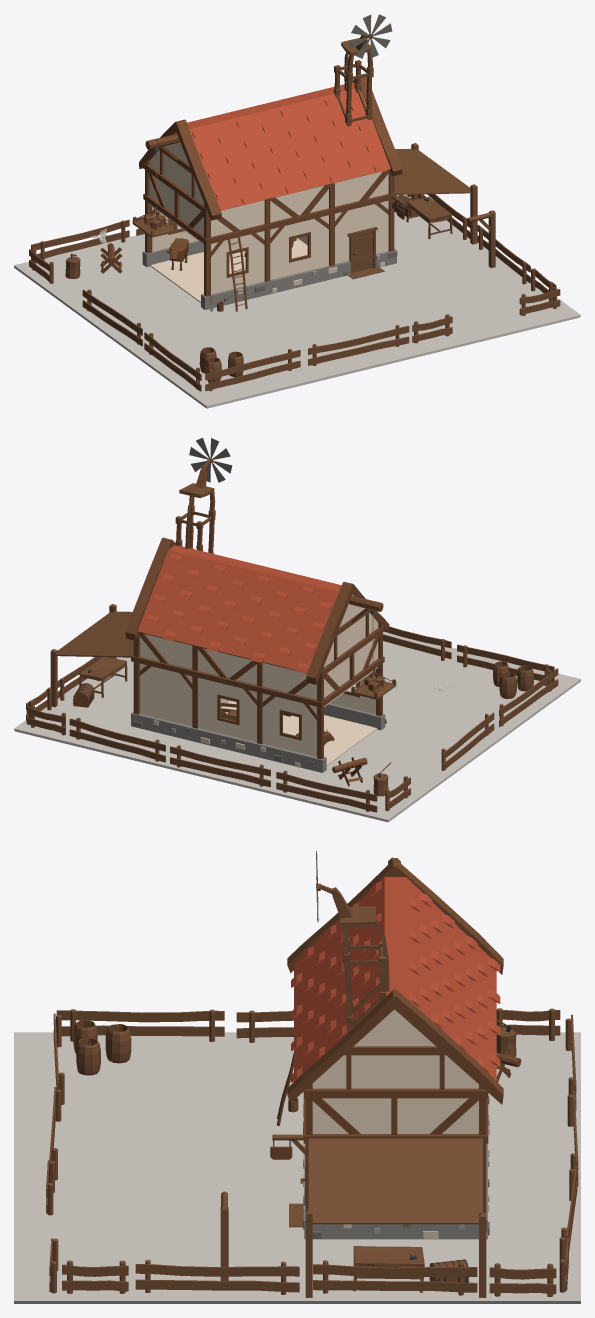
File: House.fbx
The picture shows the model from 3 angles, top to bottom: view 1: azimuth 30°, elevation 25°; view 2: azimuth 150°, elevation 25°; view 3: azimuth 270°, elevation 25°; orthographic projection. The views are drawn at different scales.
Parts seen in each view (by area): view 1: House; view 2: House; view 3: House.
Boxes of the visible parts, bbox=[...] form: House: bbox=[14, 14, 580, 408]; House: bbox=[14, 437, 580, 822]; House: bbox=[14, 851, 580, 1303].
Size of the model in its own units: 150 by 98.59 by 133.
